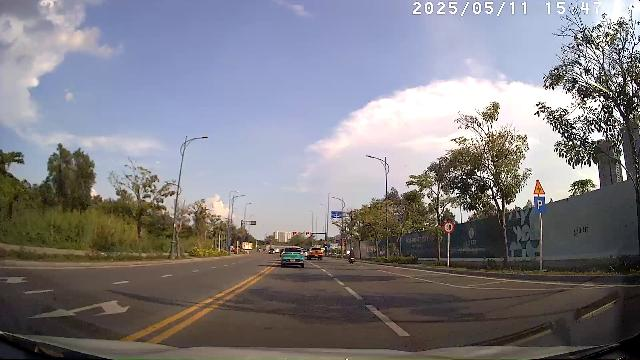127-toc-do-toi-da-50: (443, 221, 454, 233)
